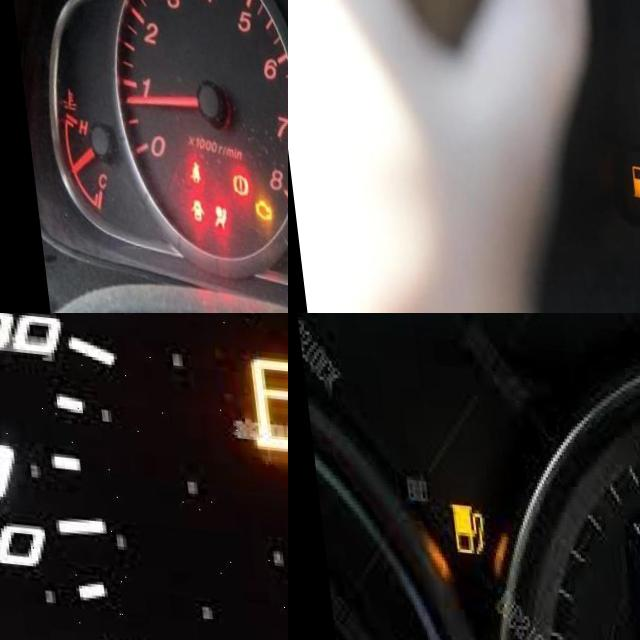Seat Belt: (181, 156, 195, 182)
